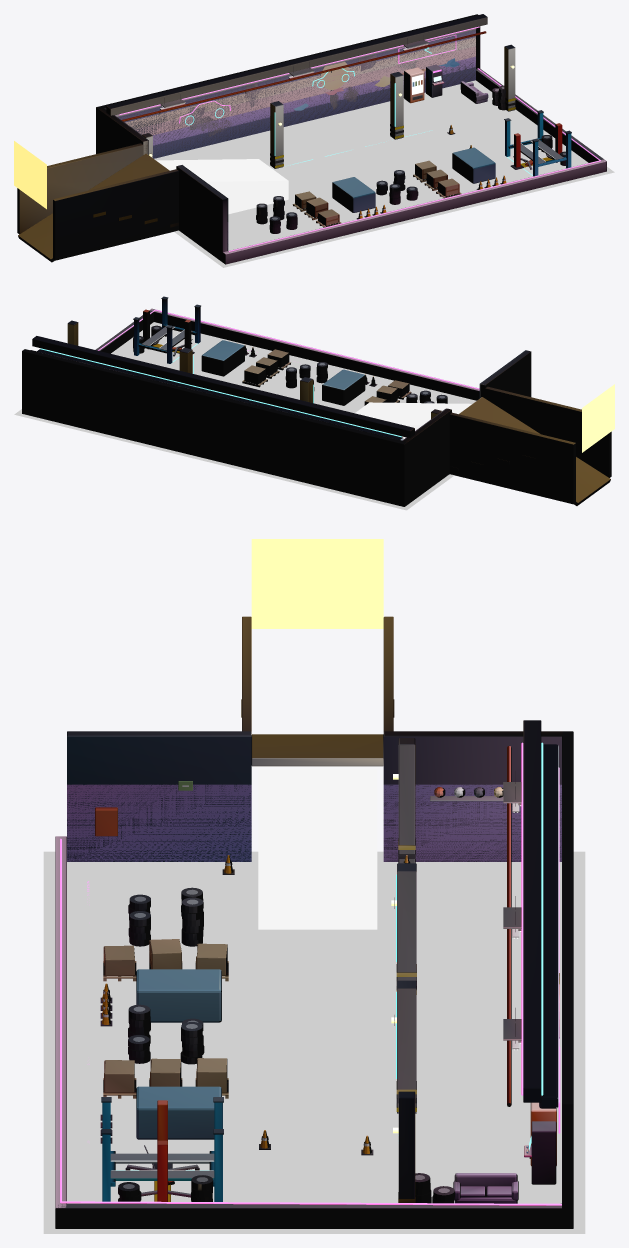
The model's file is neon.glb.
The picture shows the model from 3 angles, top to bottom: view 1: azimuth 30°, elevation 25°; view 2: azimuth 150°, elevation 25°; view 3: azimuth 270°, elevation 25°; orthographic projection. The views are drawn at different scales.
Parts seen in each view (by area): view 1: Shell, Decal_Walls_L2, Walls_L2, Decal_Park_L1, Park_L1, Walls_L3, Beam_Ramp, Props, Walls_L1, Lights_L2, Decal_Lift_L1, Lift_L3 (+3 smaller); view 2: Shell, Park_L1, Decal_Park_L1, Decal_Walls_L2, Beam_Ramp, Decal_Lift_L1, Lift_L3, Lights_L2, Decal_Lift_L2, Lift_L2, Walls_L2; view 3: Decal_Park_L1, Shell, Walls_L3, Walls_L2, Decal_Walls_L2, Park_L1, Beam_Ramp, Props, Lights_L2, Decal_Lift_L1, Lift_L3, Decal_Lift_L3 (+4 smaller).
Part boxes in pixels (x1,y1,x2,y2): Shell: (14, 14, 606, 264); Decal_Walls_L2: (154, 80, 614, 267); Walls_L2: (105, 30, 475, 250); Decal_Park_L1: (191, 99, 506, 250); Park_L1: (256, 147, 506, 233); Walls_L3: (104, 30, 475, 244); Beam_Ramp: (156, 159, 288, 214); Props: (398, 34, 505, 148); Walls_L1: (189, 54, 459, 136); Lights_L2: (119, 26, 600, 251); Decal_Lift_L1: (481, 135, 587, 182); Lift_L3: (504, 110, 571, 176); Shell: (22, 308, 614, 506); Park_L1: (201, 340, 447, 405); Decal_Park_L1: (92, 340, 476, 506); Decal_Walls_L2: (14, 342, 475, 510); Beam_Ramp: (355, 402, 471, 439); Decal_Lift_L1: (111, 322, 233, 371); Lift_L3: (133, 296, 200, 363); Lights_L2: (40, 309, 479, 437); Decal_Lift_L2: (111, 322, 232, 369); Lift_L2: (143, 309, 194, 356); Walls_L2: (31, 350, 401, 440); Decal_Park_L1: (67, 865, 583, 1158); Shell: (55, 539, 573, 1228); Walls_L3: (67, 736, 561, 1102); Walls_L2: (67, 784, 561, 1038); Decal_Walls_L2: (43, 851, 585, 1233); Park_L1: (100, 887, 228, 1143); Beam_Ramp: (258, 769, 377, 929); Props: (95, 781, 560, 1203); Lights_L2: (60, 742, 561, 1205); Decal_Lift_L1: (64, 1147, 261, 1229); Lift_L3: (101, 1097, 223, 1201); Decal_Lift_L3: (67, 1144, 268, 1230).
Bounding box in the file's own units: 36.1 × 7.82 × 16.4.
